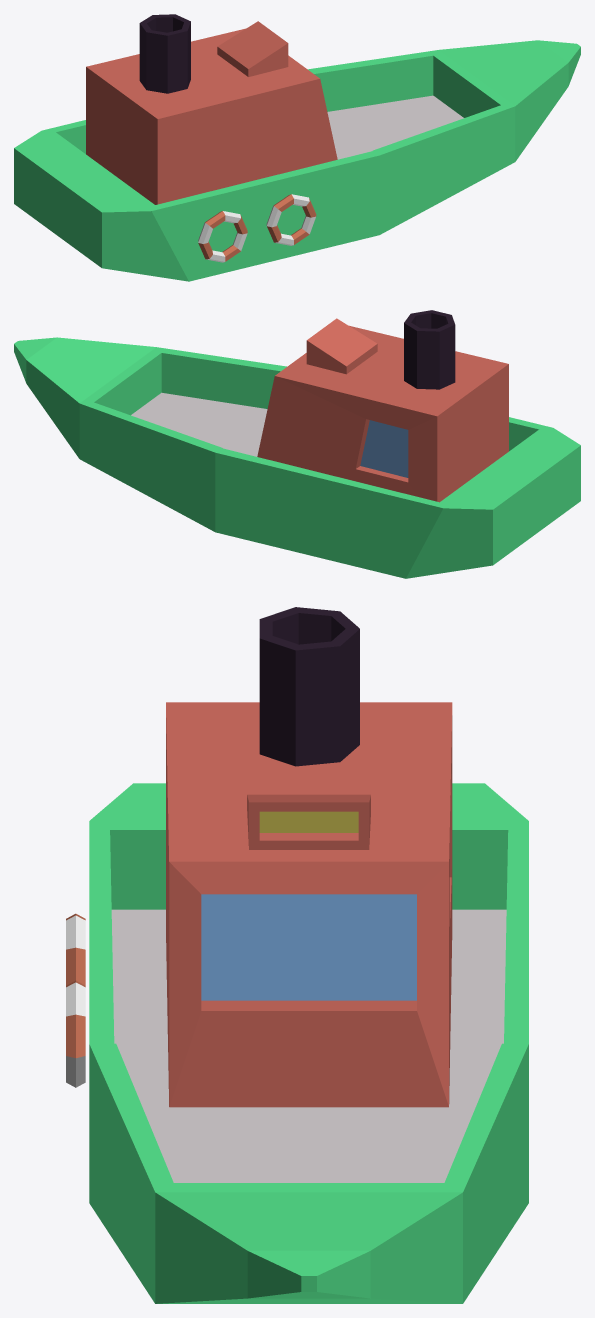
Rendered from boat2.fbx.
3 renders of one model, top to bottom at view 1: azimuth 30°, elevation 25°; view 2: azimuth 150°, elevation 25°; view 3: azimuth 270°, elevation 25°, orthographic. The views are drawn at different scales.
Visible parts, largest first — view 1: Cube; view 2: Cube; view 3: Cube.
Boxes of the visible parts, x1,y1,x2,y2 form: Cube: [14, 14, 580, 281]; Cube: [14, 310, 580, 578]; Cube: [66, 607, 528, 1303].
Bounding box in the file's own units: 1368 × 526 × 526.
